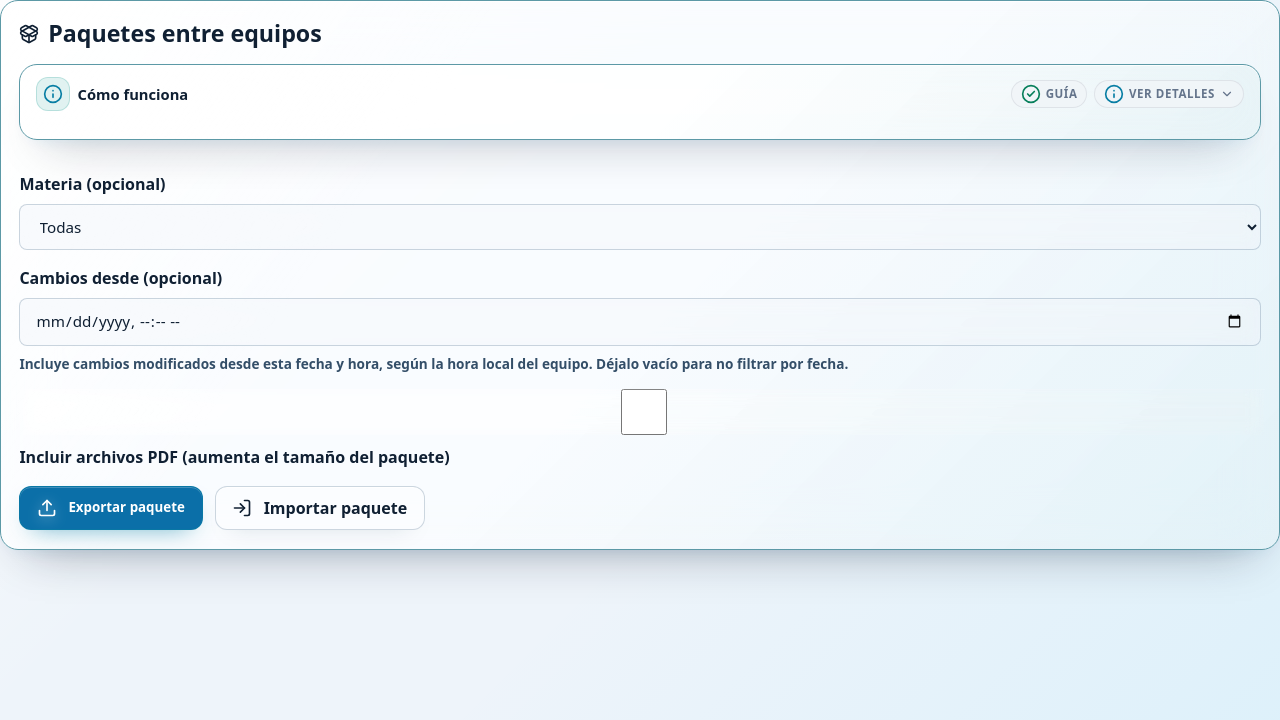
Test case: SeccionPaqueteSincronizacion › anuncia el error de exportación junto al formulario sin duplicarlo en un toast
The width and height of the screenshot is (1280, 720).
Click the button "Exportar paquete" at (111, 508), box 19,486 -> 203,530
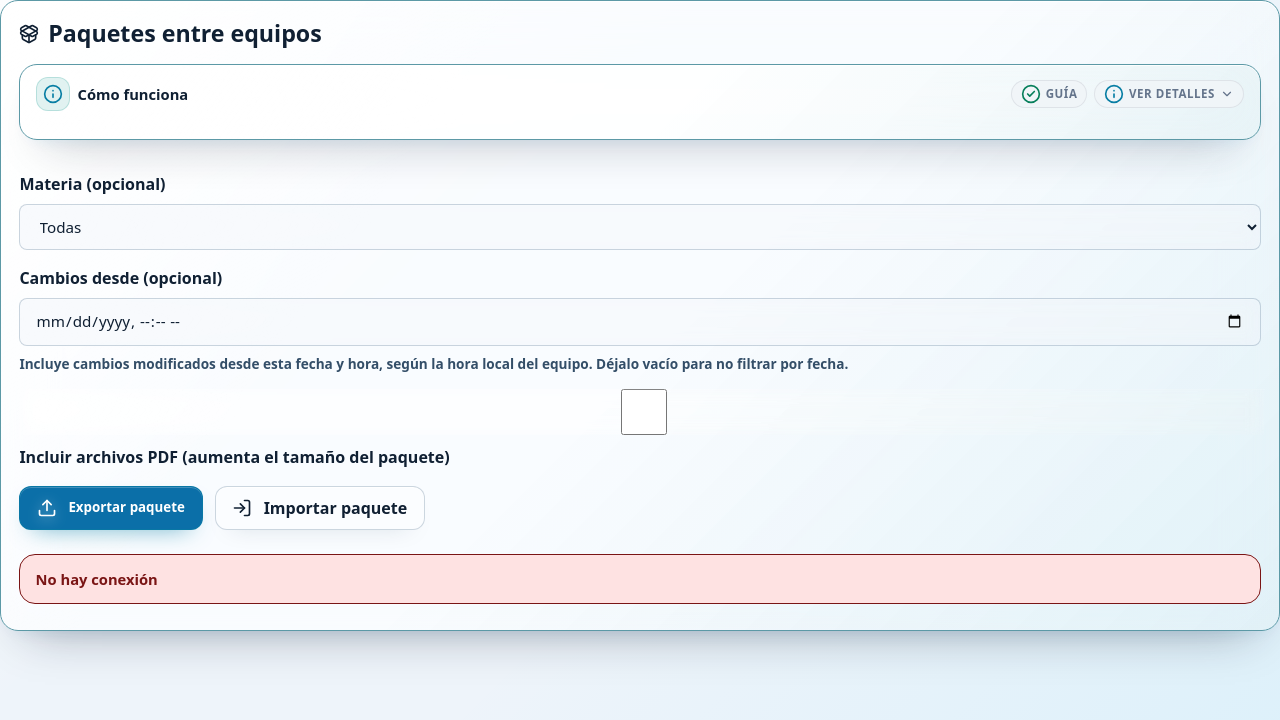
Now the message reads "No hay conexión", box 36,569 -> 158,589
